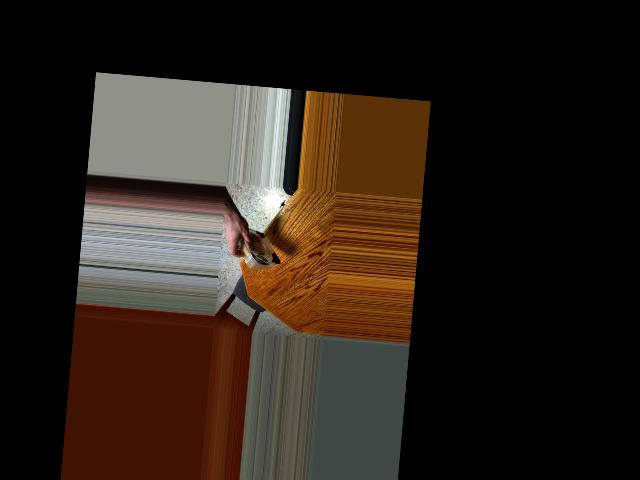cheese: (238, 215, 282, 276)
